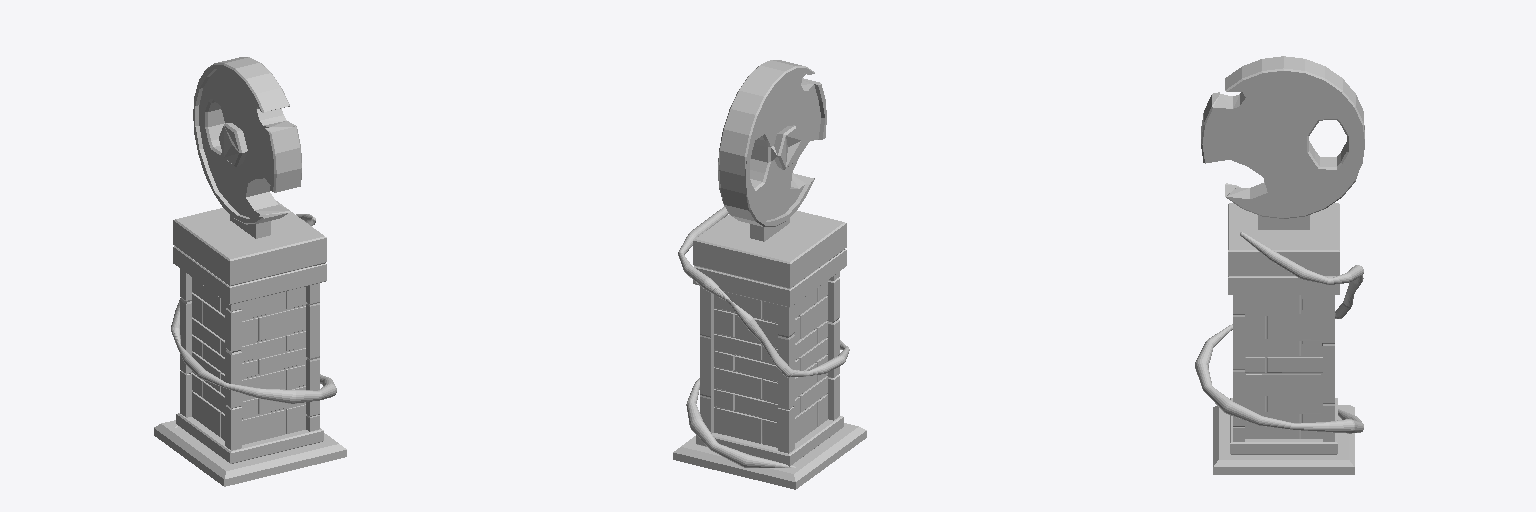
File: Texture_Ready_Alter_Dungeon.obj
The picture shows the model from 3 angles: view 1: azimuth 30°, elevation 25°; view 2: azimuth 150°, elevation 25°; view 3: azimuth 270°, elevation 25°; orthographic projection.
Parts seen in each view (by area): view 1: pDisc1, pCube3, pCube5, pCube1, pCube4, pCube2, pCube10, pCylinder2, pCube9, pCube7; view 2: pDisc1, pCube3, pCube5, pCylinder2, pCube1, pCube4, pCube7, pCube2, pCube8, pCube10; view 3: pDisc1, pCube3, pCube5, pCylinder2, pCube1, pCube4, pCube2, pCube8, pCube9, pCube6.
Part boxes in pixels (bbox=[...]): pDisc1: bbox=[193, 57, 301, 224]; pCube3: bbox=[192, 277, 306, 444]; pCube5: bbox=[173, 201, 326, 285]; pCube1: bbox=[154, 420, 346, 486]; pCube4: bbox=[173, 246, 326, 304]; pCube2: bbox=[176, 413, 323, 463]; pCube10: bbox=[225, 302, 241, 450]; pCylinder2: bbox=[171, 214, 336, 427]; pCube9: bbox=[306, 283, 319, 431]; pCube7: bbox=[180, 269, 192, 417]; pDisc1: bbox=[718, 60, 826, 226]; pCube3: bbox=[714, 280, 828, 447]; pCube5: bbox=[693, 211, 846, 288]; pCylinder2: bbox=[678, 206, 849, 467]; pCube1: bbox=[673, 423, 866, 489]; pCube4: bbox=[693, 249, 846, 307]; pCube7: bbox=[778, 305, 794, 453]; pCube2: bbox=[696, 416, 843, 466]; pCube8: bbox=[700, 286, 713, 433]; pCube10: bbox=[827, 272, 839, 420]; pDisc1: bbox=[1201, 56, 1364, 218]; pCube3: bbox=[1245, 295, 1322, 438]; pCube5: bbox=[1228, 203, 1339, 275]; pCylinder2: bbox=[1195, 232, 1363, 433]; pCube1: bbox=[1213, 405, 1354, 474]; pCube4: bbox=[1228, 276, 1339, 294]; pCube2: bbox=[1230, 398, 1337, 454]; pCube8: bbox=[1322, 295, 1334, 441]; pCube9: bbox=[1233, 295, 1244, 441]; pCube6: bbox=[1258, 215, 1309, 229].
Size of the model in its own units: 161 by 434 by 176.